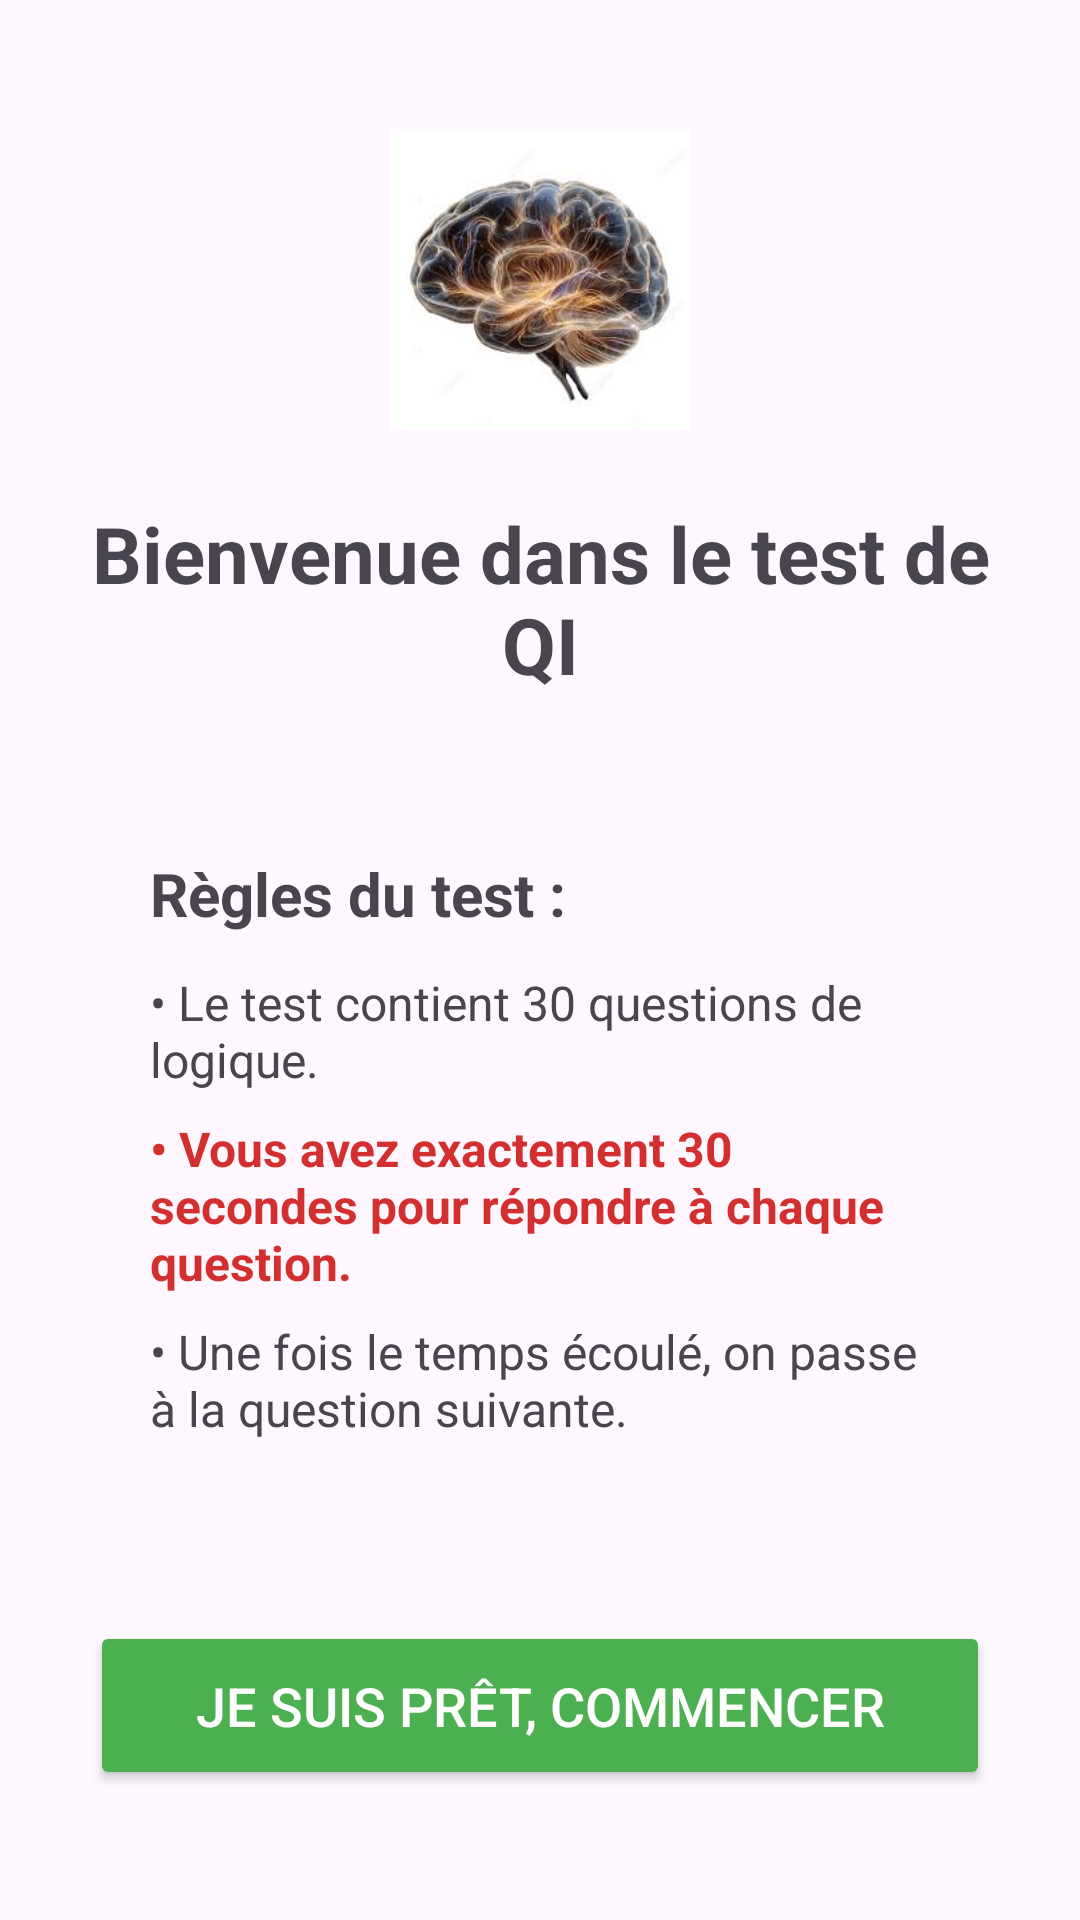

Where to tap for icons on this 1080w x 1920h app screen, as (x,y):
brain: (540,289)
